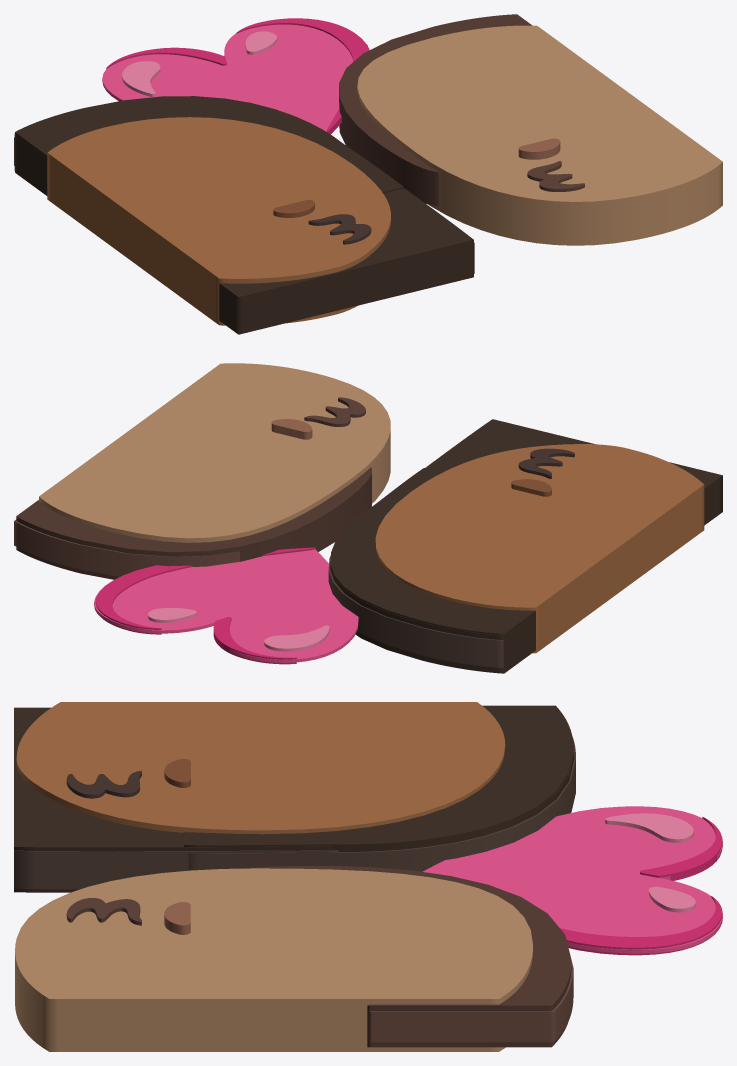
File: emoji_u1f469_1f3fe_200d_2764_200d_1f48b_200d_1f468_1f3fd.glb
3 views of the same model, one above another, from view 1: azimuth 30°, elevation 25°; view 2: azimuth 150°, elevation 25°; view 3: azimuth 270°, elevation 25° (orthographic). The views are drawn at different scales.
Visible parts, largest first — view 1: emoji_u1f469_1f3fe_200d_2764_200d_1f48b_200d_1f468_1f3fd; view 2: emoji_u1f469_1f3fe_200d_2764_200d_1f48b_200d_1f468_1f3fd; view 3: emoji_u1f469_1f3fe_200d_2764_200d_1f48b_200d_1f468_1f3fd.
Boxes of the visible parts, box(x1,y1,x2,y2) form: emoji_u1f469_1f3fe_200d_2764_200d_1f48b_200d_1f468_1f3fd: box(14, 14, 722, 334); emoji_u1f469_1f3fe_200d_2764_200d_1f48b_200d_1f468_1f3fd: box(14, 363, 722, 673); emoji_u1f469_1f3fe_200d_2764_200d_1f48b_200d_1f468_1f3fd: box(14, 702, 722, 1051).
Bounding box in the file's own units: 0.0336 × 0.0038 × 0.0339.
